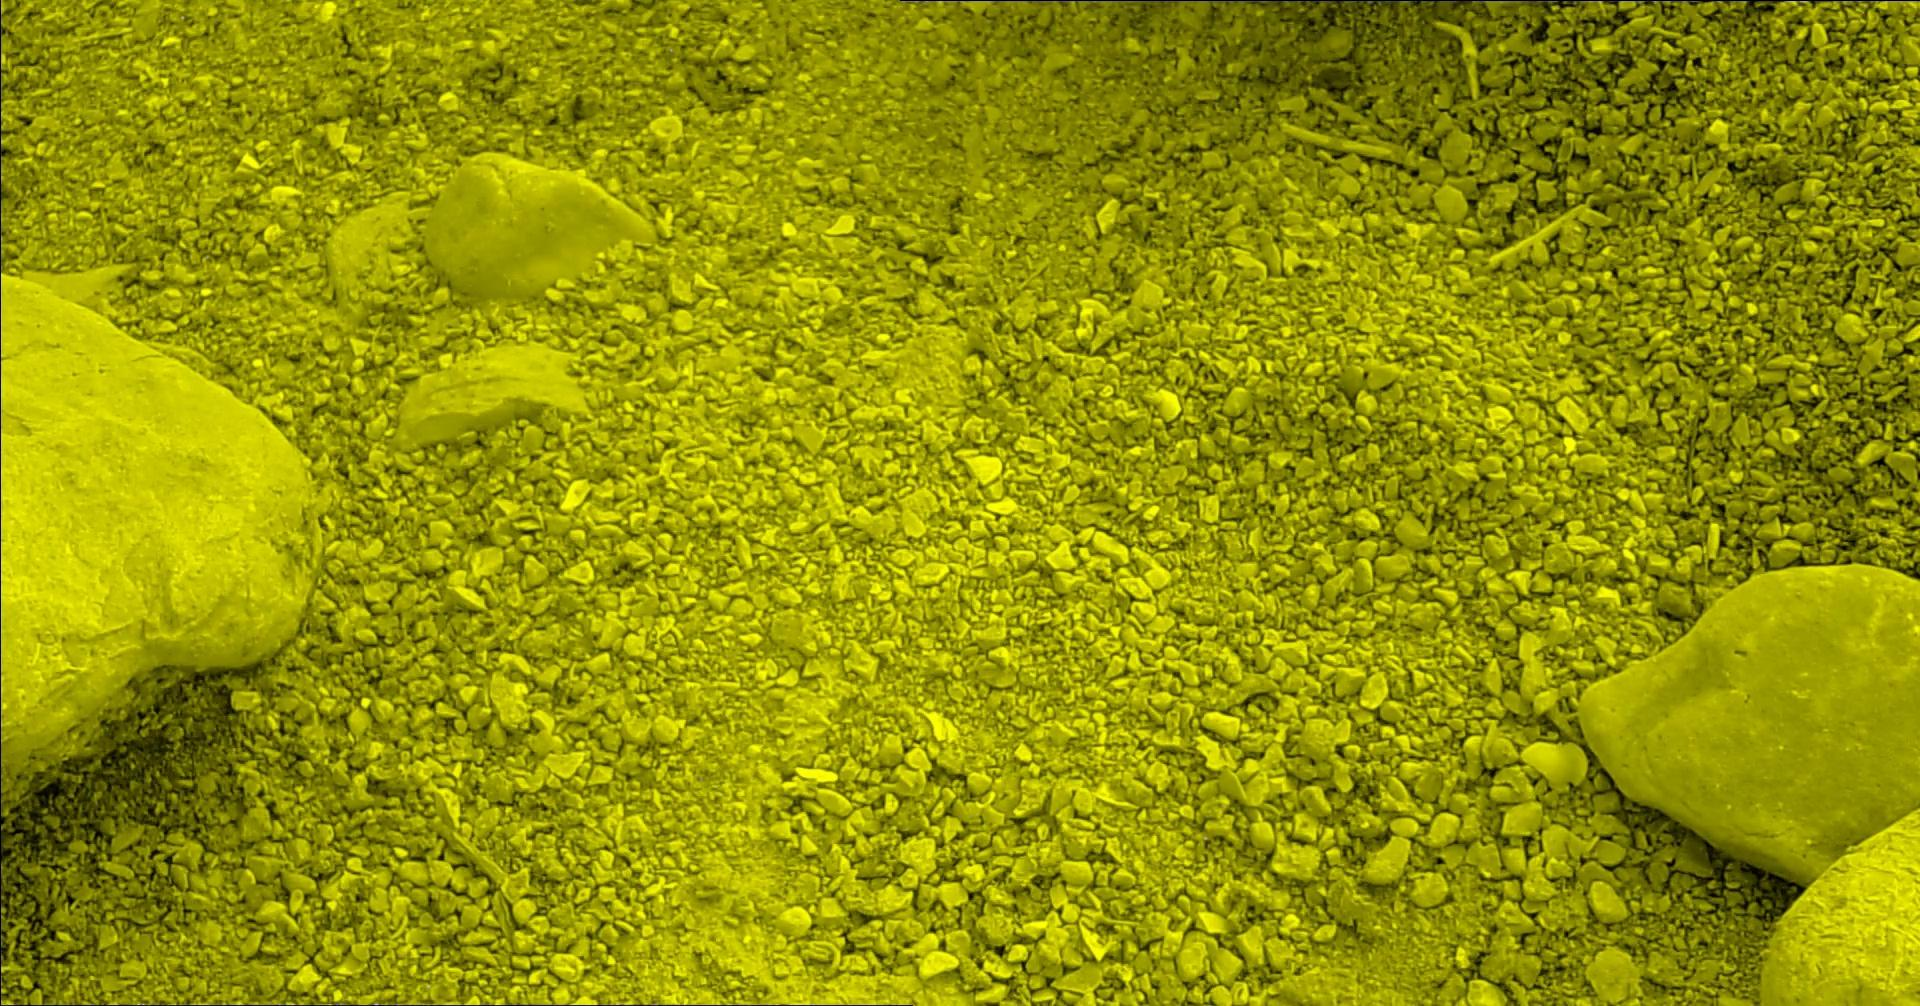ant: (1210, 0, 1337, 1), (1345, 0, 1402, 3)
